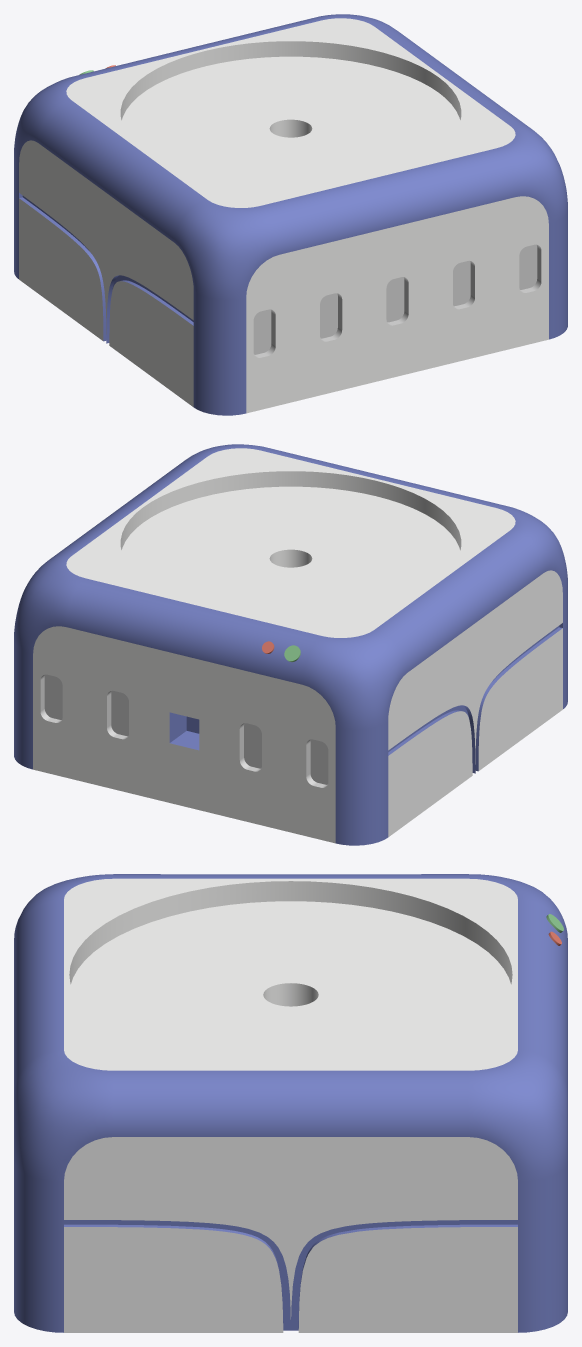
File: carcaca.dae
The picture shows the model from 3 angles, top to bottom: view 1: azimuth 30°, elevation 25°; view 2: azimuth 150°, elevation 25°; view 3: azimuth 270°, elevation 25°; orthographic projection. The views are drawn at different scales.
Parts seen in each view (by area): view 1: Body1; view 2: Body1; view 3: Body1.
Part boxes in pixels (<box>): Body1: <box>14,14,567,415</box>; Body1: <box>14,444,567,845</box>; Body1: <box>14,874,567,1332</box>.
Bounding box in the file's own units: 0.5 × 0.5 × 0.24.
